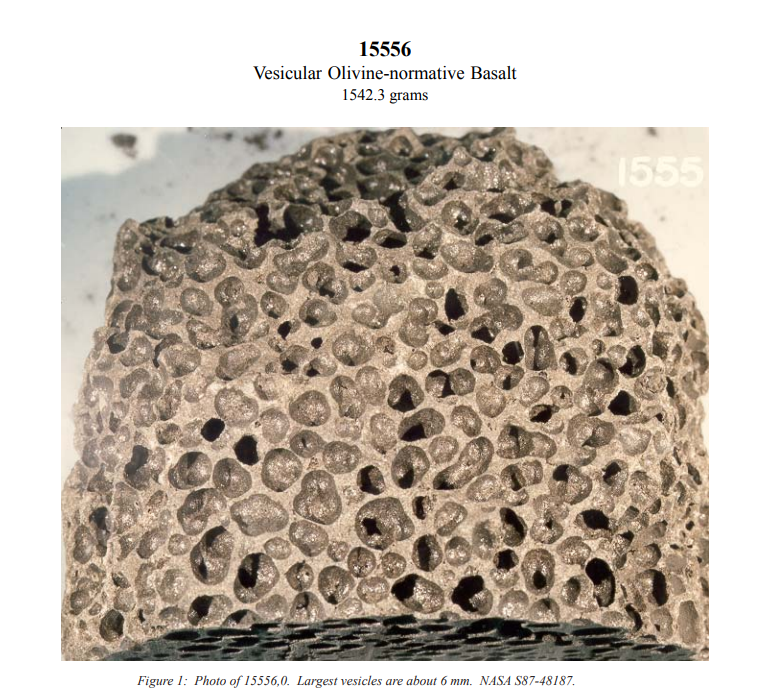Basalt: (77, 163, 699, 644), (151, 218, 684, 575)
